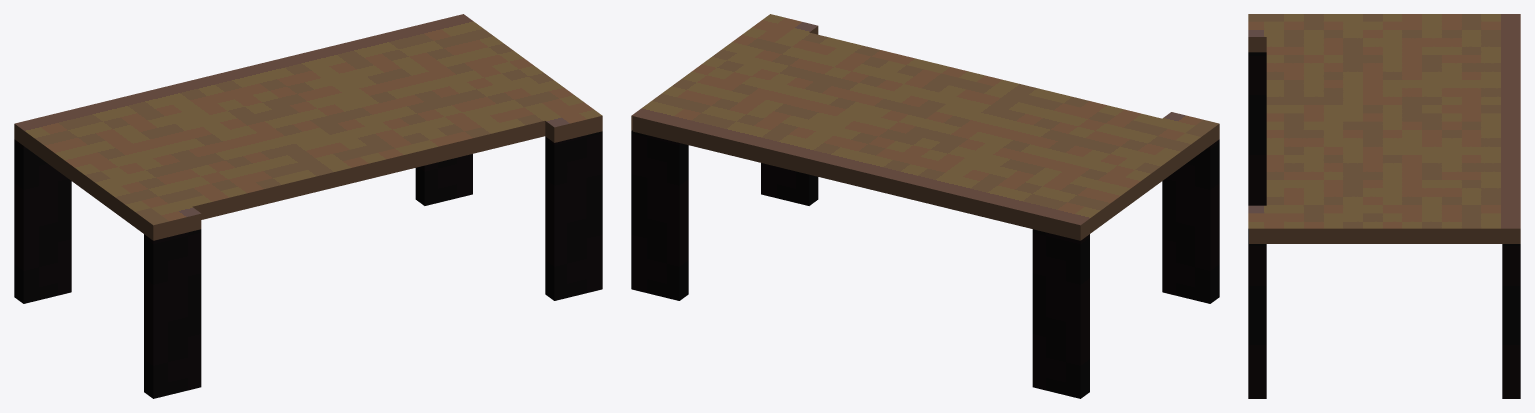
Rendered from Mesa.obj.
3 views of the same model, side by side, from view 1: azimuth 30°, elevation 25°; view 2: azimuth 150°, elevation 25°; view 3: azimuth 270°, elevation 25° (orthographic). The views are drawn at different scales.
Visible parts, largest first — view 1: Cube_Cube.003; view 2: Cube_Cube.003; view 3: Cube_Cube.003.
Boxes of the visible parts, box(x1,y1,x2,y2) form: Cube_Cube.003: box(14, 14, 602, 398); Cube_Cube.003: box(631, 14, 1219, 398); Cube_Cube.003: box(1248, 14, 1520, 398).
Size of the model in its own units: 1.41 by 0.5198 by 0.7537.
Materials: 1 (1 with a texture image).
